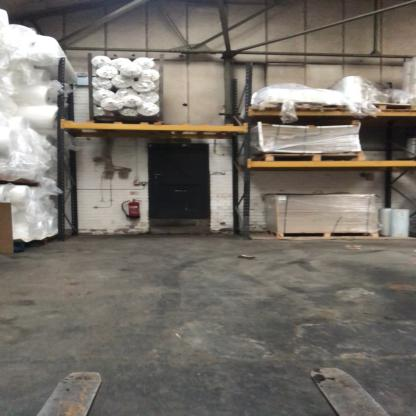vertical_damage: (243, 205, 255, 229)
